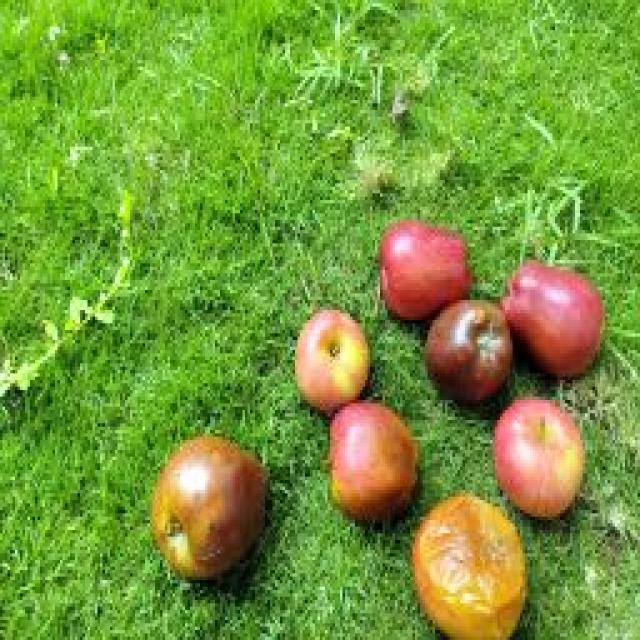Organik: (134, 441, 281, 590), (402, 493, 535, 640), (495, 240, 600, 392), (314, 390, 414, 539), (485, 396, 597, 524), (421, 290, 512, 412), (380, 210, 470, 329), (296, 310, 385, 412)
